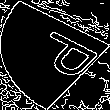P_SE: (12, 25, 98, 85)
